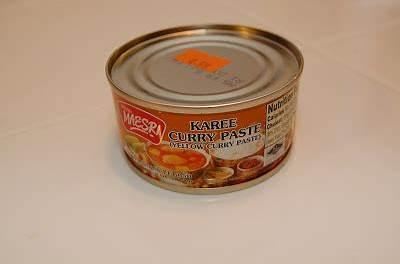metal: (106, 24, 304, 194)
